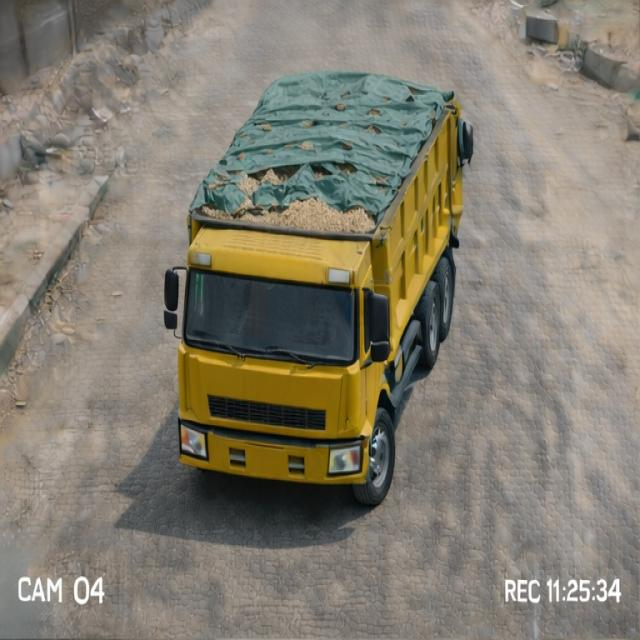Box: (190, 71, 457, 228)
Truck: (152, 66, 506, 504)
